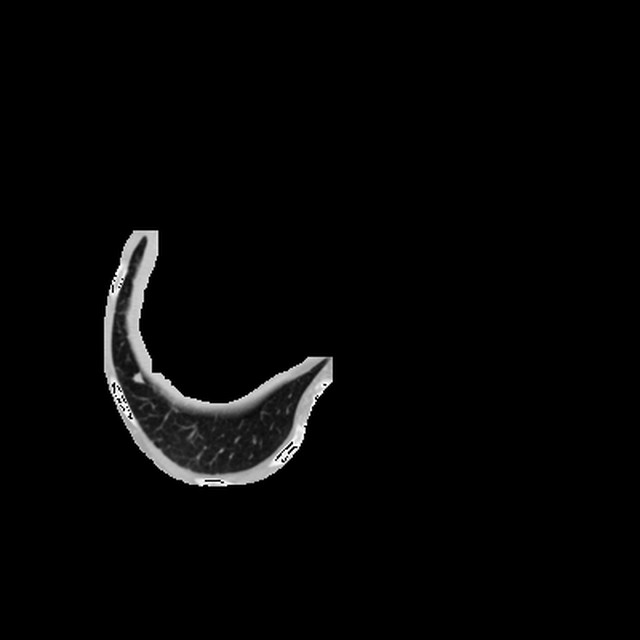PN: (131, 371, 144, 384)
